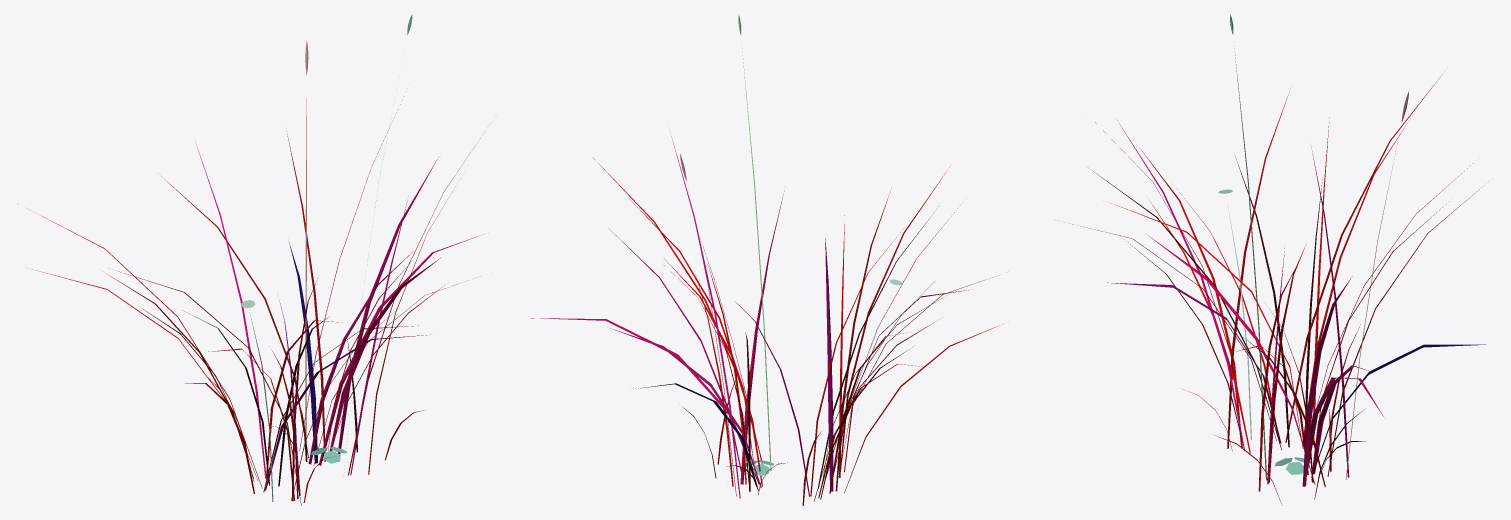
Rendered from GrassTuft0.glb.
3 renders of one model, left to right at view 1: azimuth 30°, elevation 25°; view 2: azimuth 150°, elevation 25°; view 3: azimuth 270°, elevation 25°, orthographic. The views are drawn at different scales.
Parts seen in each view (by area): view 1: GrassTuft0_lod0; view 2: GrassTuft0_lod0; view 3: GrassTuft0_lod0.
Part boxes in pixels (box(x1,y1,x2,y2)): GrassTuft0_lod0: box(17, 15, 482, 505); GrassTuft0_lod0: box(531, 14, 1002, 505); GrassTuft0_lod0: box(1072, 14, 1485, 505).
Size of the model in its own units: 1.26 by 1.22 by 1.02.
